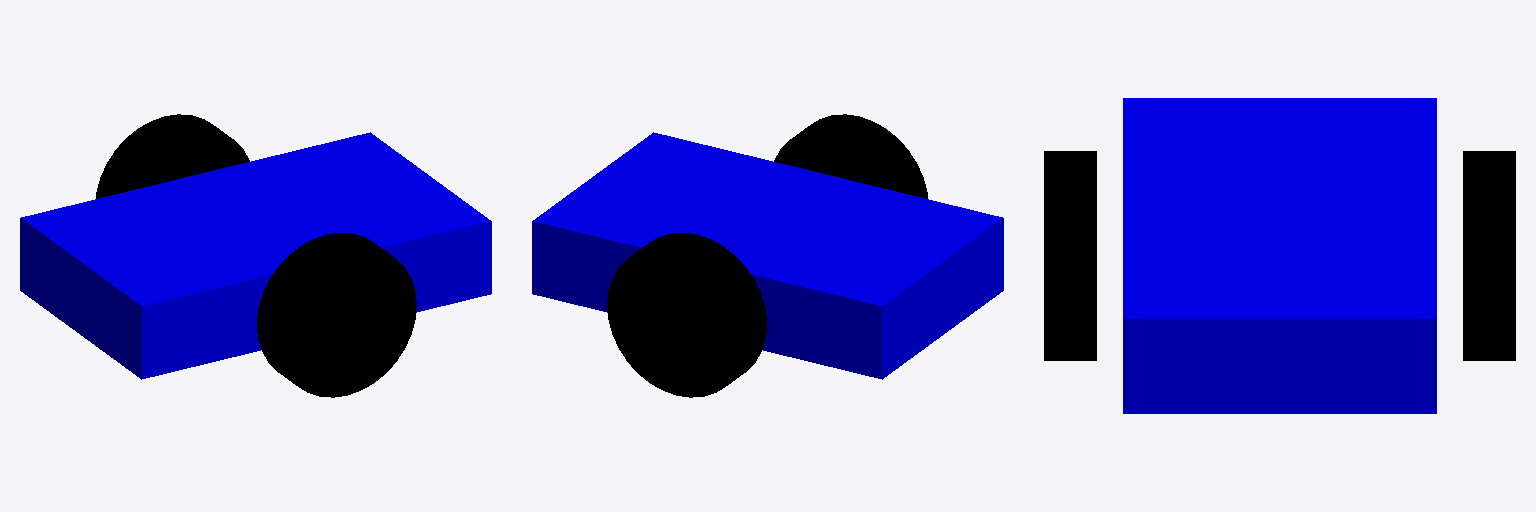
URDF robot description (minimal_robot):
<?xml version="1.0"?>
<robot name="minimal_robot">
  
  <link name="base_link">
    <inertial>
      <mass value="10.0"/>
      <inertia ixx="1.0" ixy="0.0" ixz="0.0" iyy="1.0" iyz="0.0" izz="1.0"/>
    </inertial>
    <visual>
      <geometry>
        <box size="0.5 0.3 0.1"/>
      </geometry>
      <material name="blue">
        <color rgba="0 0 1 1"/>
      </material>
    </visual>
    <collision>
      <geometry>
        <box size="0.5 0.3 0.1"/>
      </geometry>
    </collision>
  </link>

  <link name="left_wheel">
    <inertial>
      <mass value="1.0"/>
      <inertia ixx="0.1" ixy="0.0" ixz="0.0" iyy="0.1" iyz="0.0" izz="0.1"/>
    </inertial>
    <visual>
      <geometry>
        <cylinder radius="0.1" length="0.05"/>
      </geometry>
      <material name="black">
        <color rgba="0 0 0 1"/>
      </material>
    </visual>
    <collision>
      <geometry>
        <cylinder radius="0.1" length="0.05"/>
      </geometry>
    </collision>
  </link>

  <link name="right_wheel">
    <inertial>
      <mass value="1.0"/>
      <inertia ixx="0.1" ixy="0.0" ixz="0.0" iyy="0.1" iyz="0.0" izz="0.1"/>
    </inertial>
    <visual>
      <geometry>
        <cylinder radius="0.1" length="0.05"/>
      </geometry>
      <material name="black">
        <color rgba="0 0 0 1"/>
      </material>
    </visual>
    <collision>
      <geometry>
        <cylinder radius="0.1" length="0.05"/>
      </geometry>
    </collision>
  </link>

  <joint name="left_wheel_joint" type="continuous">
    <parent link="base_link"/>
    <child link="left_wheel"/>
    <origin xyz="0 0.2 0" rpy="1.5708 0 0"/>
    <axis xyz="0 1 0"/>
    <limit effort="100" velocity="100"/>
    <dynamics friction="0.01" damping="0.01"/>
  </joint>

  <joint name="right_wheel_joint" type="continuous">
    <parent link="base_link"/>
    <child link="right_wheel"/>
    <origin xyz="0 -0.2 0" rpy="1.5708 0 0"/>
    <axis xyz="0 1 0"/>
    <limit effort="100" velocity="100"/>
    <dynamics friction="0.01" damping="0.01"/>
  </joint>

  <!-- Gazebo diff drive plugin -->
  <gazebo>
    <plugin filename="gz-sim-diff-drive-system" name="gz::sim::systems::DiffDrive">
      <left_joint>left_wheel_joint</left_joint>
      <right_joint>right_wheel_joint</right_joint>
      <wheel_separation>0.4</wheel_separation>
      <wheel_radius>0.1</wheel_radius>
      <max_wheel_torque>1000</max_wheel_torque>
      <topic>cmd_vel</topic>
    </plugin>
  </gazebo>

  <gazebo reference="base_link">
    <static>false</static>
    <kinematic>false</kinematic>
  </gazebo>

  <gazebo reference="left_wheel">
    <mu1>1.0</mu1>
    <mu2>1.0</mu2>
    <static>false</static>
  </gazebo>

  <gazebo reference="right_wheel">
    <mu1>1.0</mu1>
    <mu2>1.0</mu2>
    <static>false</static>
  </gazebo>

</robot>

--- Render facts (derived) ---
Views: 3 orthographic renders of the robot side by side, from view 1: azimuth 30°, elevation 25°; view 2: azimuth 150°, elevation 25°; view 3: azimuth 270°, elevation 25°.
Robot: minimal_robot — 3 links, 2 joints (2 continuous); root link base_link; default pose: every joint at zero.
Links seen in each view (by area): view 1: base_link, right_wheel, left_wheel; view 2: base_link, left_wheel, right_wheel; view 3: base_link, left_wheel, right_wheel.
Boxes of the visible links, x1,y1,x2,y2 form: base_link: (20,132,491,379); right_wheel: (257,233,416,397); left_wheel: (96,114,249,198); base_link: (532,132,1003,379); left_wheel: (607,233,766,397); right_wheel: (774,114,927,198); base_link: (1123,98,1436,413); left_wheel: (1463,151,1515,360); right_wheel: (1044,151,1096,360).
Bounding box of the posed robot: 0.5 × 0.45 × 0.2 m (x, y, z).
Geometry: primitives only (box / cylinder / sphere), no mesh files.